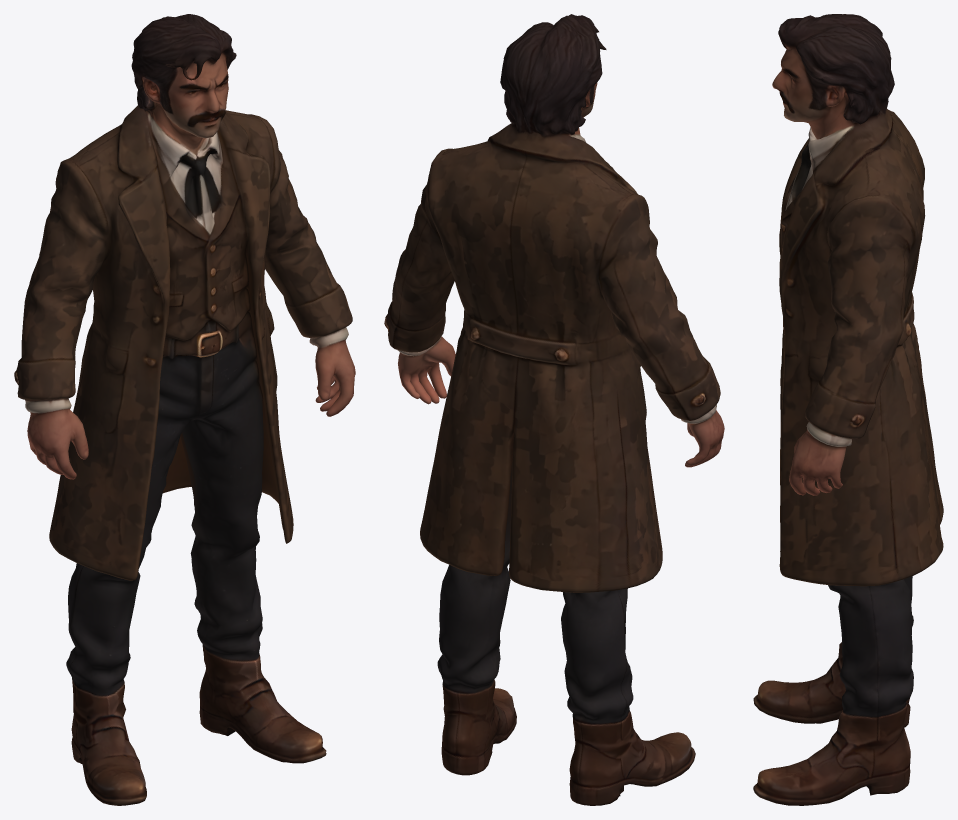
The model's file is bold_cowboy_dressed_rodin.glb.
3 views of the same model, side by side, from view 1: azimuth 30°, elevation 25°; view 2: azimuth 150°, elevation 25°; view 3: azimuth 270°, elevation 25° (orthographic).
Parts seen in each view (by area): view 1: model; view 2: model; view 3: model.
Part boxes in pixels (box(x1,y1,x2,y2)): model: box(14, 14, 355, 805); model: box(384, 14, 724, 805); model: box(753, 14, 943, 805).
Bounding box in the file's own units: 0.8739 × 1.9 × 0.4439.
1 material, 1 textured.
